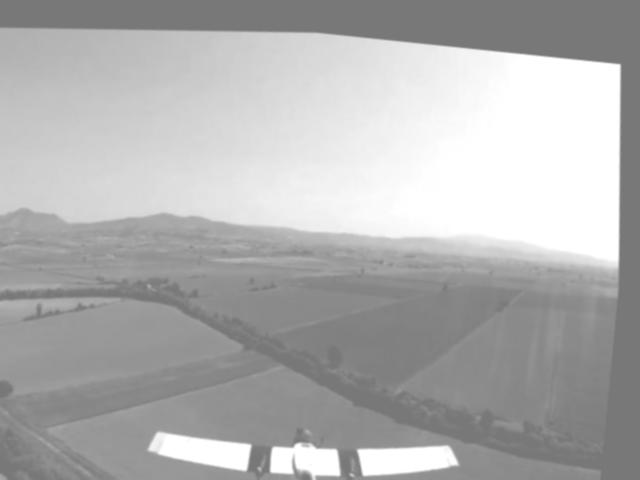hedef: (139, 381, 481, 480)
